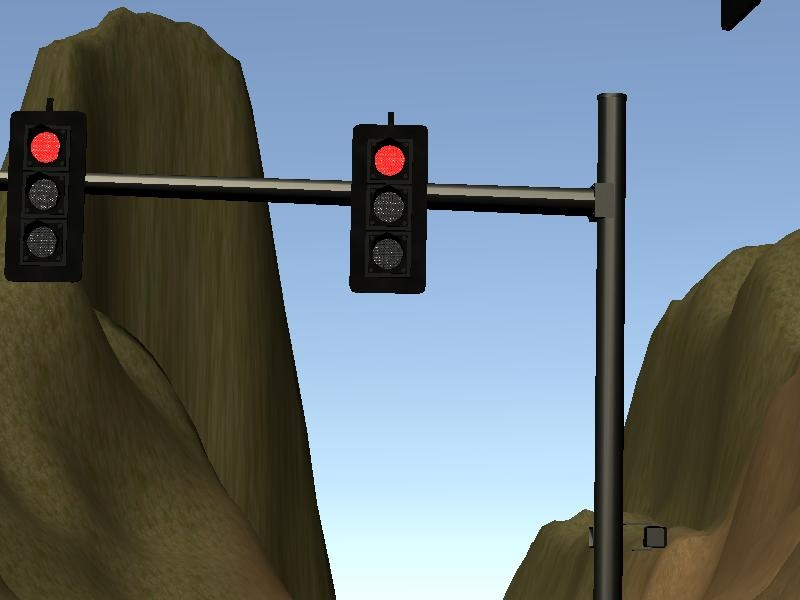red: (6, 112, 84, 284), (350, 124, 428, 295)
